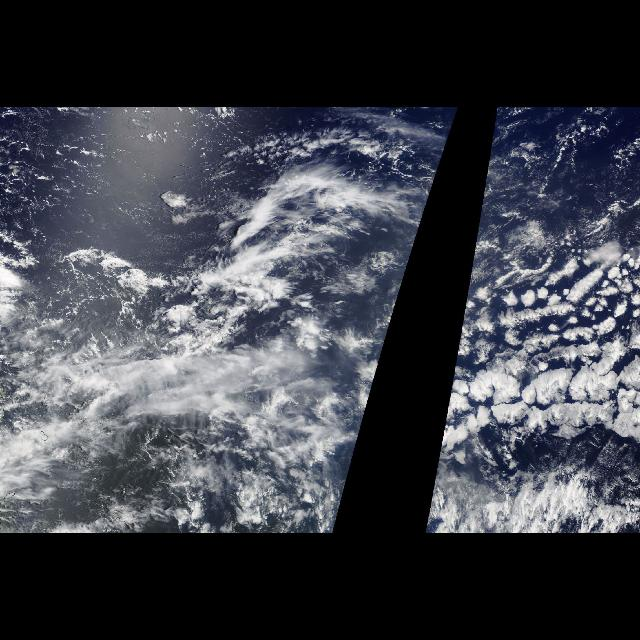Flower: (442, 195, 640, 473)
Sugar: (4, 107, 220, 260)
